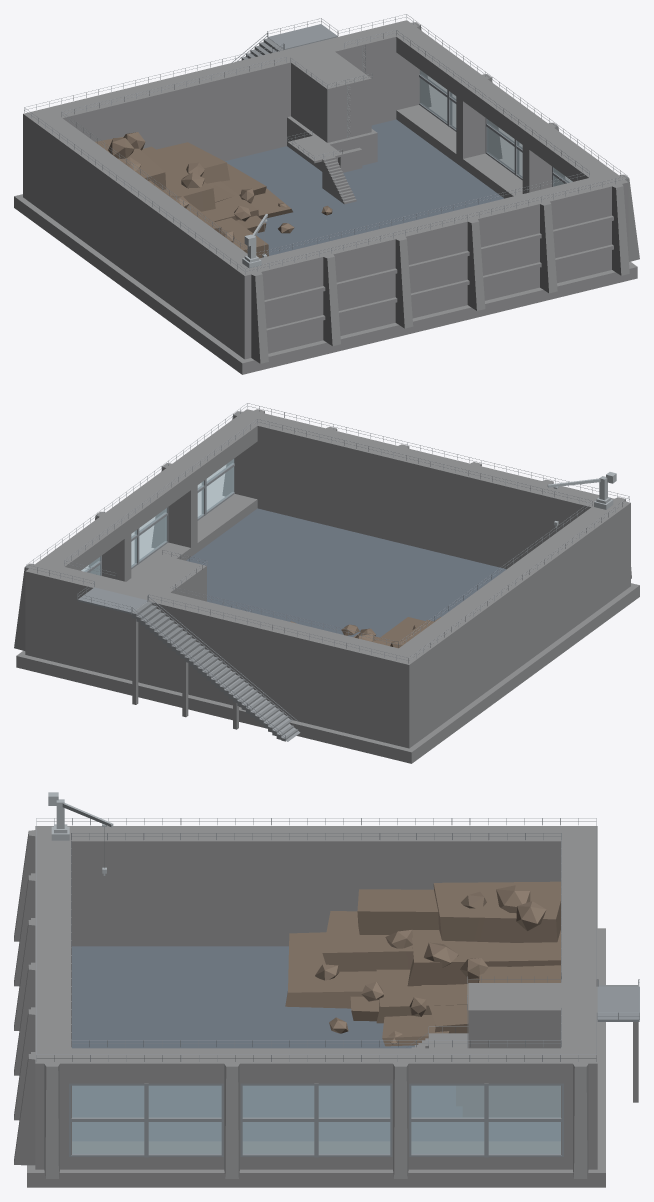
Rendered from dinosaur_paddock_70x70.glb.
3 renders of one model, top to bottom at view 1: azimuth 30°, elevation 25°; view 2: azimuth 150°, elevation 25°; view 3: azimuth 270°, elevation 25°, orthographic. The views are drawn at different scales.
Parts seen in each view (by area): view 1: Main_Perimeter_Walls, Pit_Floor, Exterior_Buttresses, Interior_Access_Tower, Foundation_Plinth, Quarry_Rock_Terraces, Catwalk_Railings, Observation_Glass_Panels, Window_Steel_Mullions, Feeding_Jib_Crane, Tower_Railings_and_Ladders; view 2: Main_Perimeter_Walls, Pit_Floor, Foundation_Plinth, Catwalk_Railings, Catwalk_Stairs, Observation_Glass_Panels, Interior_Access_Tower, Exterior_Buttresses, Window_Steel_Mullions, Catwalk_Stairs_Pillars, Stair_Ramp, Catwalk_Stairs_Rail (+2 smaller); view 3: Main_Perimeter_Walls, Pit_Floor, Observation_Glass_Panels, Quarry_Rock_Terraces, Exterior_Buttresses, Foundation_Plinth, Interior_Access_Tower, Catwalk_Railings, Window_Steel_Mullions, Feeding_Jib_Crane, Boulder_Corner_1, Boulder_Corner_2.
Part boxes in pixels (x1,y1,x2,y2): Main_Perimeter_Walls: (23,20,628,359); Pit_Floor: (225,119,503,255); Exterior_Buttresses: (251,22,639,363); Interior_Access_Tower: (287,52,377,204); Foundation_Plinth: (14,194,637,374); Quarry_Rock_Terraces: (95,136,292,258); Catwalk_Railings: (24,14,627,274); Observation_Glass_Panels: (420,70,572,186); Window_Steel_Mullions: (419,74,569,186); Feeding_Jib_Crane: (242,214,267,268); Tower_Railings_and_Ladders: (287,45,372,197); Main_Perimeter_Walls: (25,409,630,748); Pit_Floor: (186,508,506,637); Foundation_Plinth: (16,583,639,763); Catwalk_Railings: (26,403,629,663); Catwalk_Stairs: (132,601,298,741); Observation_Glass_Panels: (81,459,233,575); Interior_Access_Tower: (126,555,206,601); Exterior_Buttresses: (14,409,631,650); Window_Steel_Mullions: (84,463,234,575); Catwalk_Stairs_Pillars: (132,617,238,729); Stair_Ramp: (131,601,300,741); Catwalk_Stairs_Rail: (132,596,298,741); Main_Perimeter_Walls: (35,826,597,1169); Pit_Floor: (72,946,560,1140); Observation_Glass_Panels: (72,1085,560,1153); Quarry_Rock_Terraces: (285,881,560,1046); Exterior_Buttresses: (14,830,588,1178); Foundation_Plinth: (27,928,605,1187); Interior_Access_Tower: (411,983,560,1116); Catwalk_Railings: (36,818,639,1061); Window_Steel_Mullions: (69,1083,563,1157); Feeding_Jib_Crane: (48,792,113,875); Boulder_Corner_1: (496,885,530,913); Boulder_Corner_2: (516,901,546,930).
Size of the model in its own units: 73.85 by 21.96 by 77.94.
